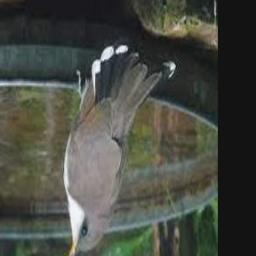Cuckoo: (60, 47, 175, 256)
